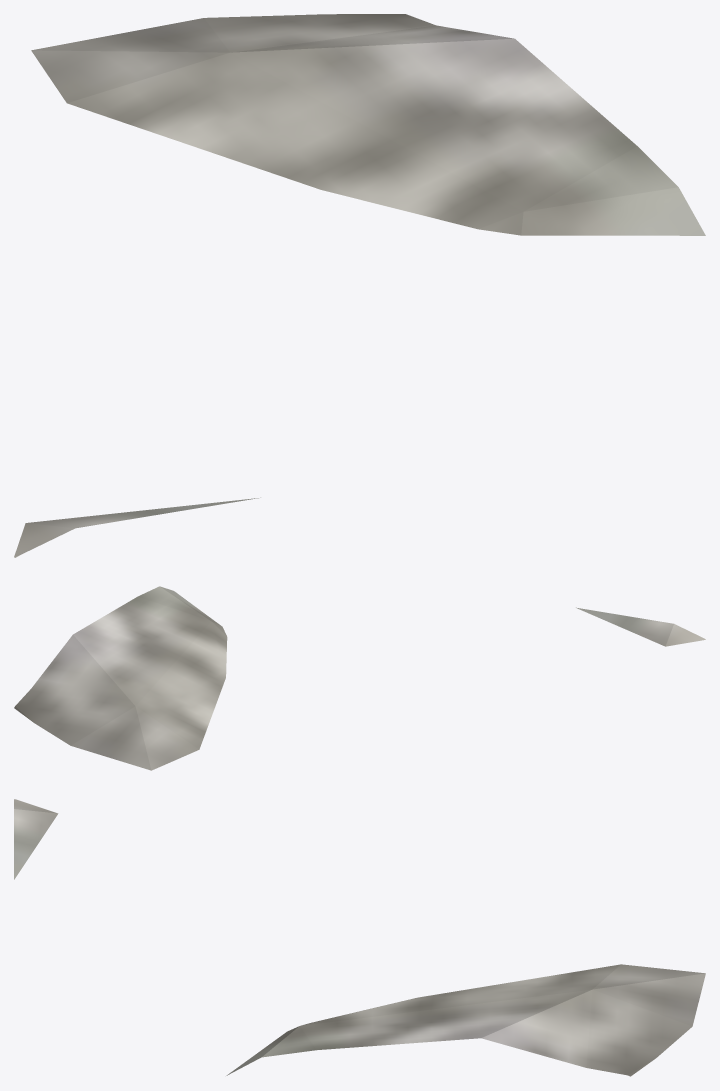
3 views of the same model, one above another, from view 1: azimuth 30°, elevation 25°; view 2: azimuth 150°, elevation 25°; view 3: azimuth 270°, elevation 25° (orthographic). The views are drawn at different scales.
Size of the model in its own units: 0.1795 by 0.0116 by 0.1892.
Materials: 1 (1 with a texture image).
